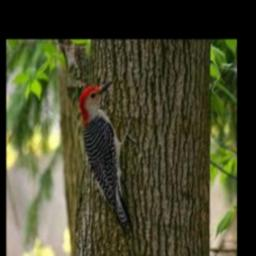Woodpecker: (79, 80, 136, 229)
